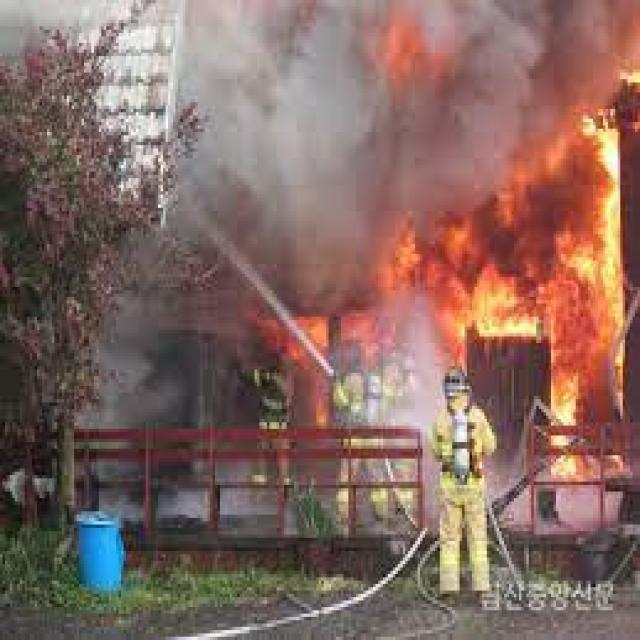Fire: (365, 146, 637, 472), (362, 208, 556, 380), (362, 1, 465, 103), (620, 60, 640, 90)
Smoke: (93, 0, 454, 354), (486, 12, 586, 85)
